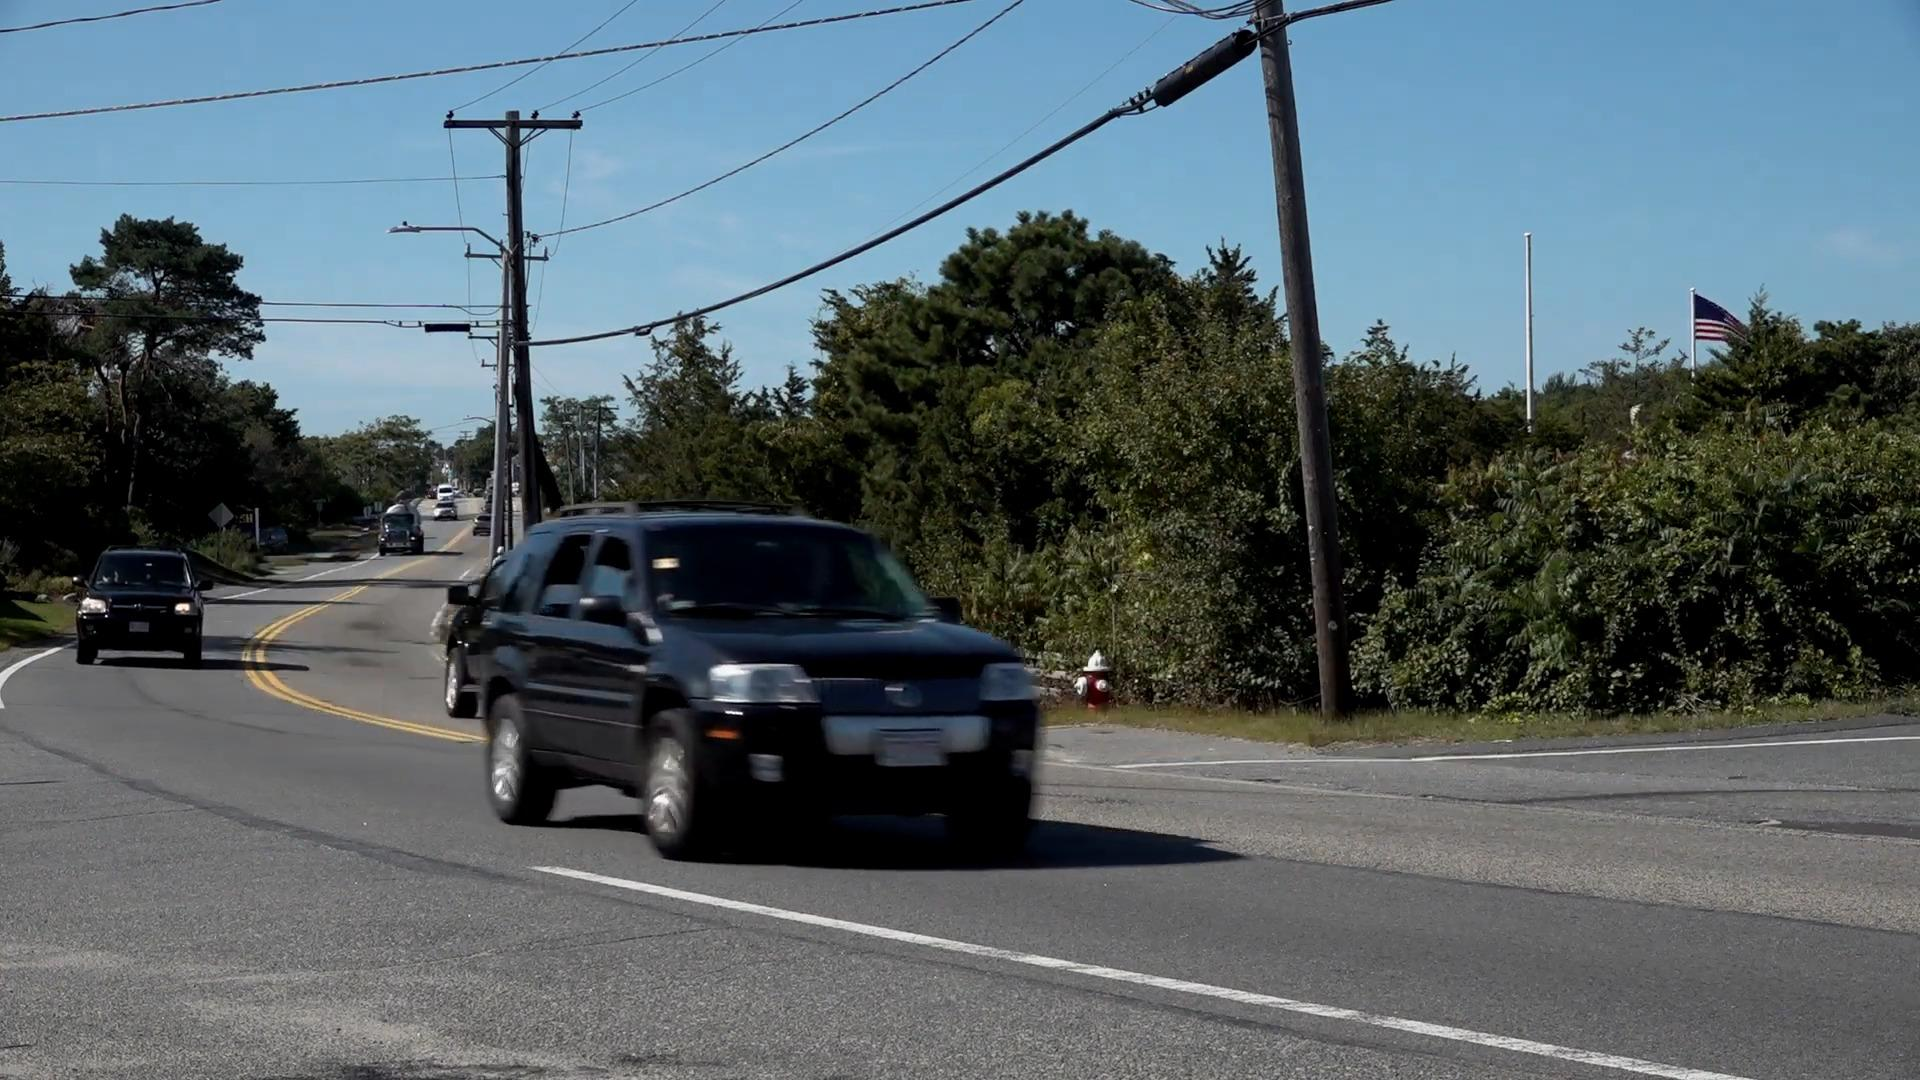suv: (481, 510, 1038, 865), (80, 543, 203, 669)
